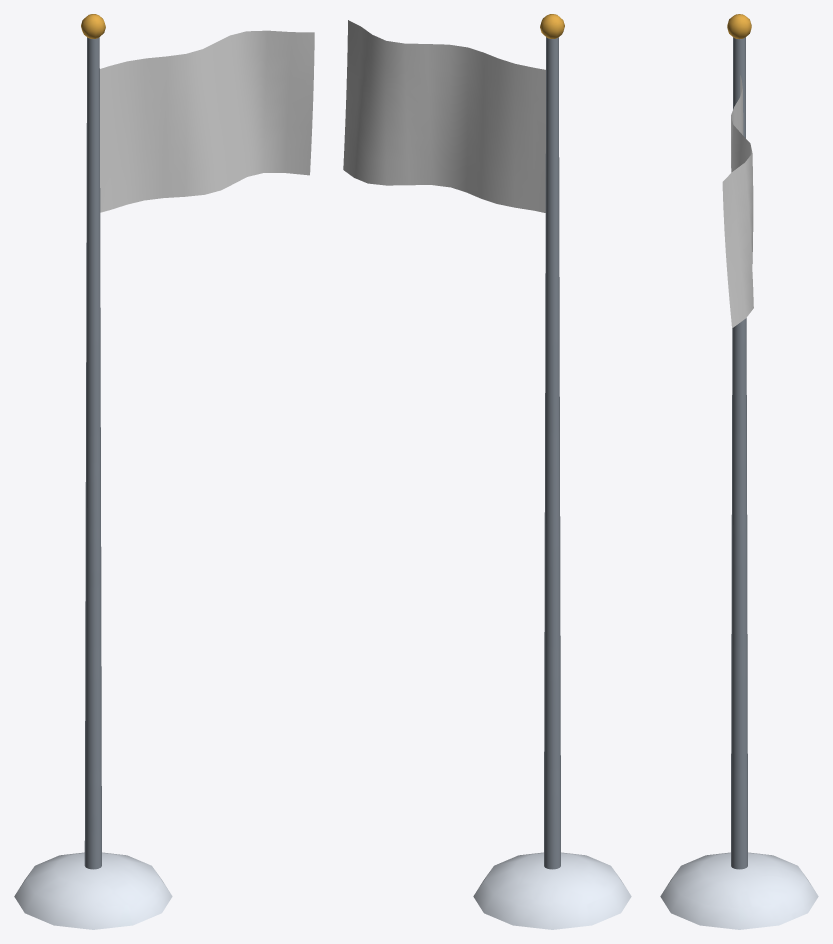
The model's file is SM_FlagPole.glb.
3 views of the same model, side by side, from view 1: azimuth 30°, elevation 25°; view 2: azimuth 150°, elevation 25°; view 3: azimuth 270°, elevation 25° (orthographic).
Parts seen in each view (by area): view 1: FlagCloth, SM_FlagPole; view 2: FlagCloth, SM_FlagPole; view 3: SM_FlagPole, FlagCloth.
Part boxes in pixels (<box>): FlagCloth: <box>100,30,314,212</box>; SM_FlagPole: <box>14,14,172,929</box>; FlagCloth: <box>343,20,545,212</box>; SM_FlagPole: <box>473,14,631,929</box>; SM_FlagPole: <box>660,14,818,929</box>; FlagCloth: <box>722,75,753,328</box>.
Size of the model in its own units: 2.05 by 6.14 by 1.
Materials: 2 (1 with a texture image).
